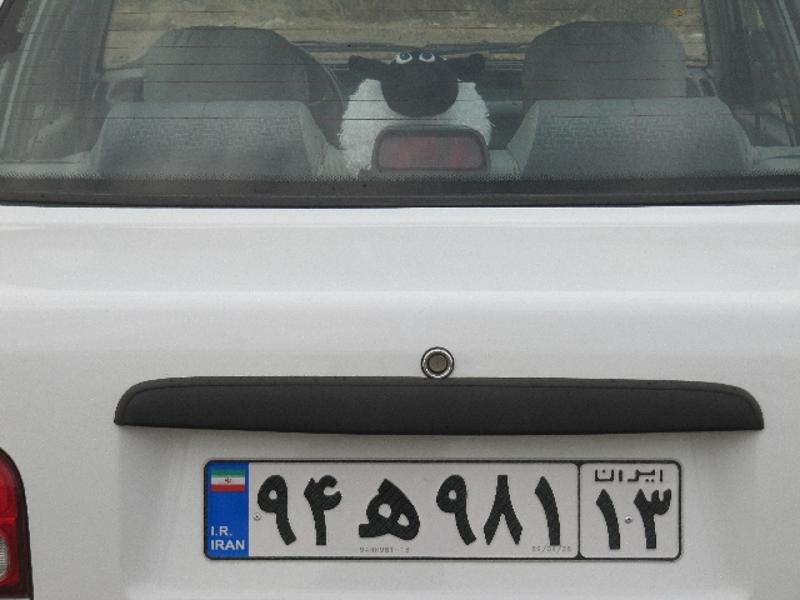Plate: (182, 422, 695, 573)
